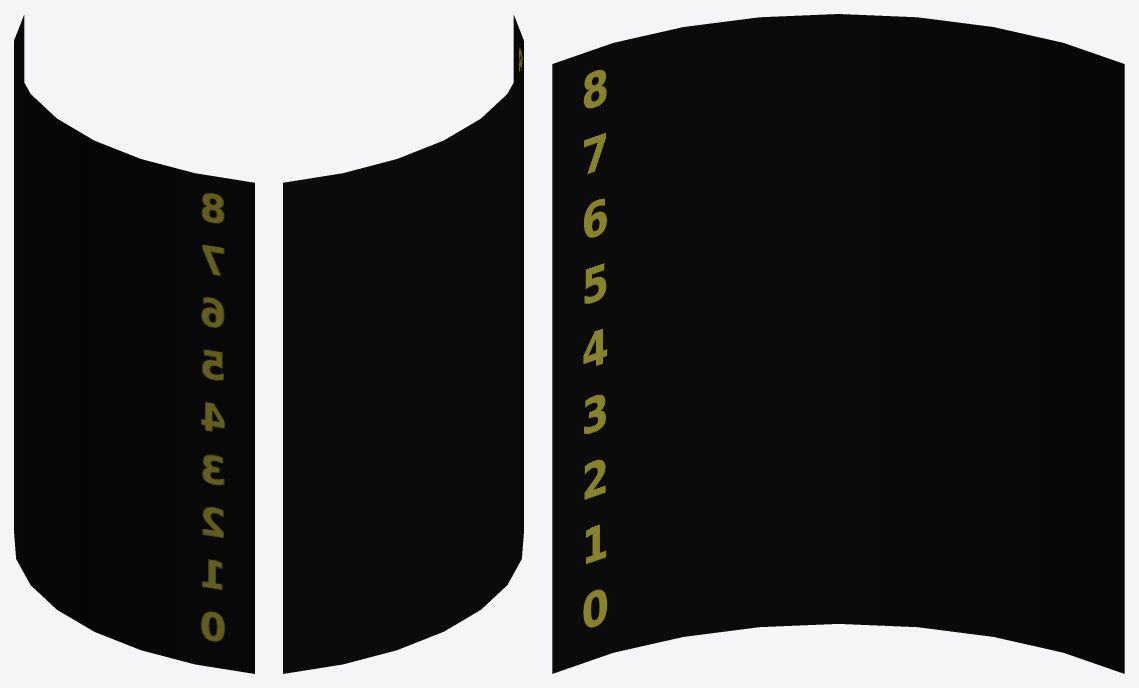
The model's file is ElevatorButtons.glb.
The picture shows the model from 3 angles, left to right: view 1: azimuth 30°, elevation 25°; view 2: azimuth 150°, elevation 25°; view 3: azimuth 270°, elevation 25°; orthographic projection. The views are drawn at different scales.
Visible parts, largest first — view 1: Elevator01_Tube.001; view 2: Elevator01_Tube.001; view 3: Elevator01_Tube.001.
Part boxes in pixels (bbox=[...]): Elevator01_Tube.001: bbox=[14, 15, 254, 673]; Elevator01_Tube.001: bbox=[283, 15, 523, 673]; Elevator01_Tube.001: bbox=[552, 14, 1124, 673].
Bounding box in the file's own units: 0.3888 × 2.21 × 1.88.
1 material, 1 textured.
